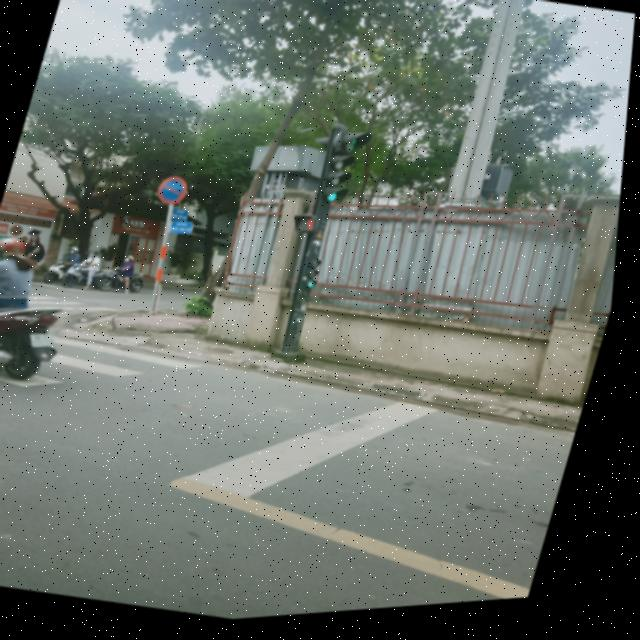Green: (315, 156, 361, 216), (300, 256, 338, 304)
